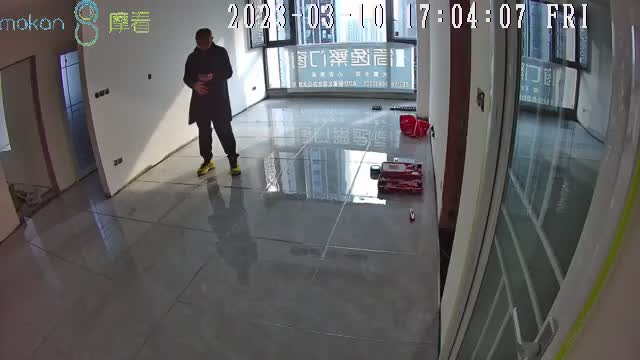people: (182, 28, 240, 176)
window: (264, 1, 418, 95)
